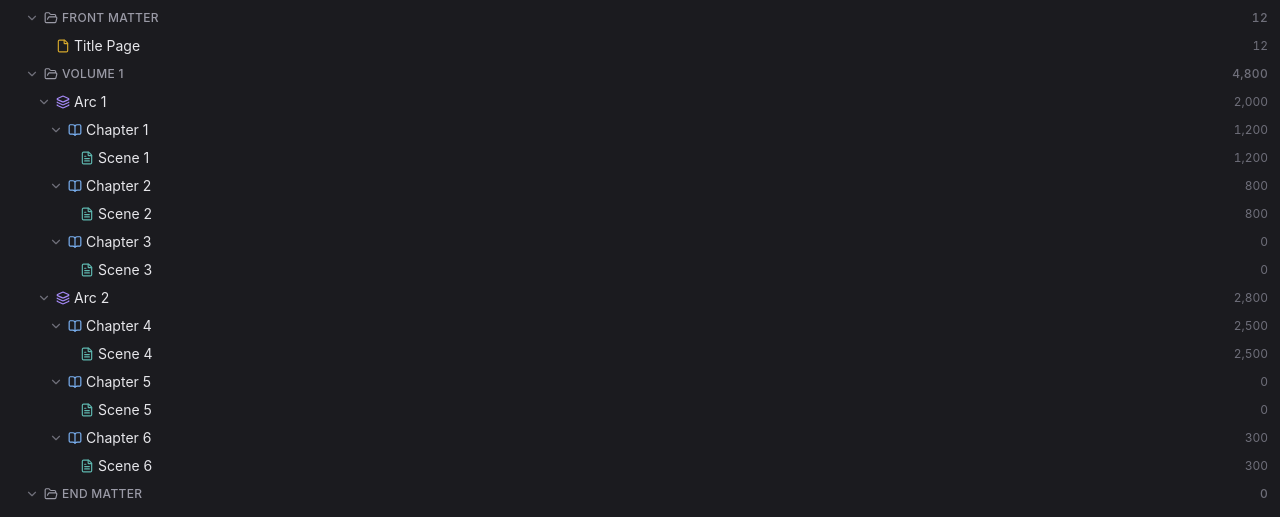
Test: ManuscriptTree › right-click on a chapter opens a menu with the levels and the generic items, no templates
Right-click the element showing "Chapter 2 800" at (119, 186), box [4,172,1276,200]
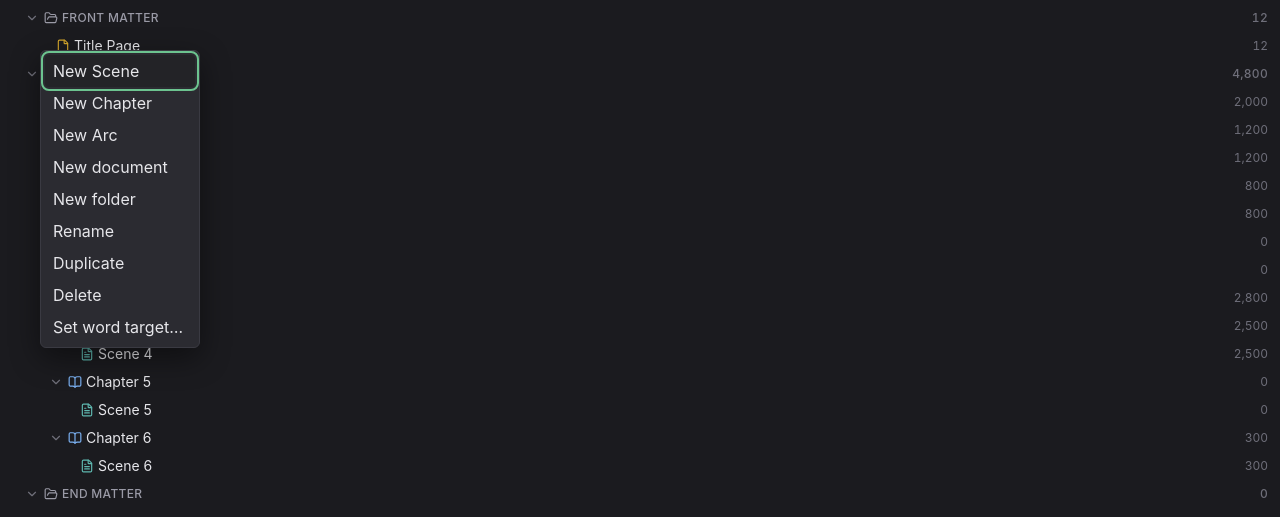
Press Arrowdown
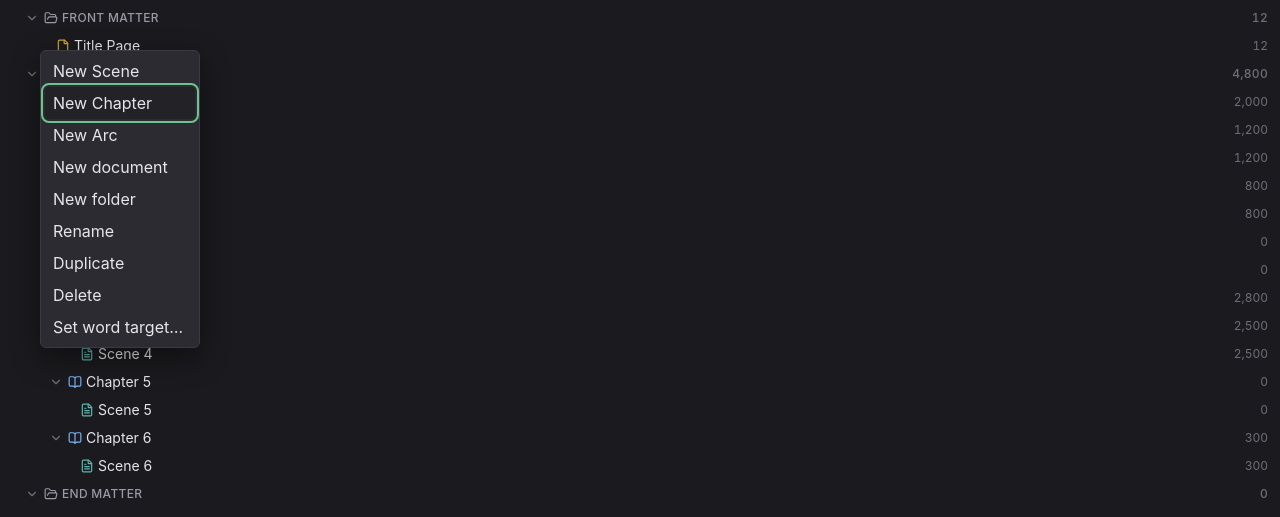
Press Arrowup Arrowup
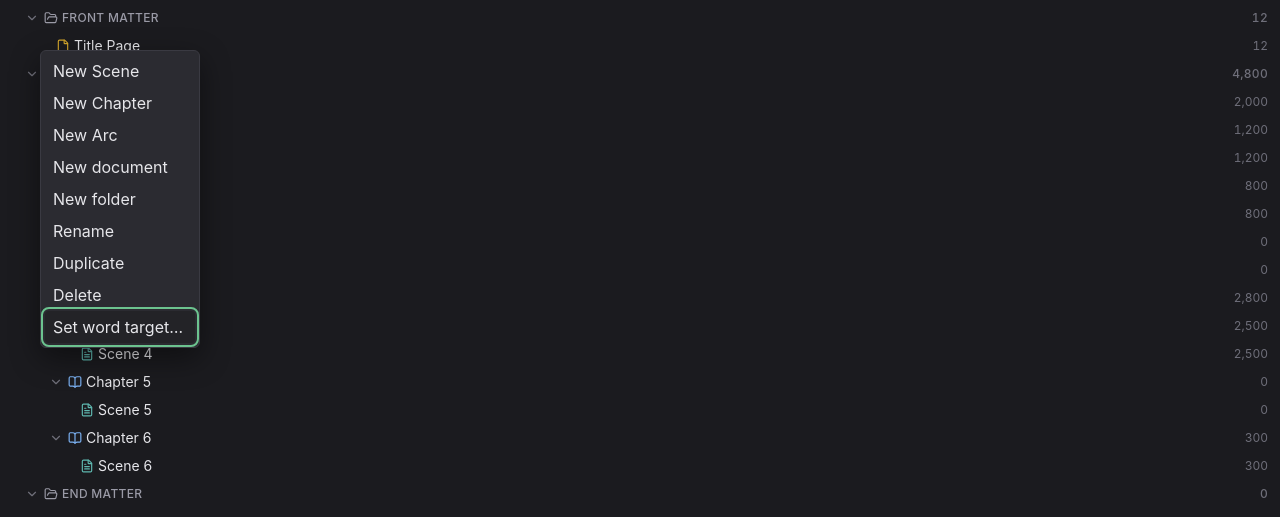
Press Escape
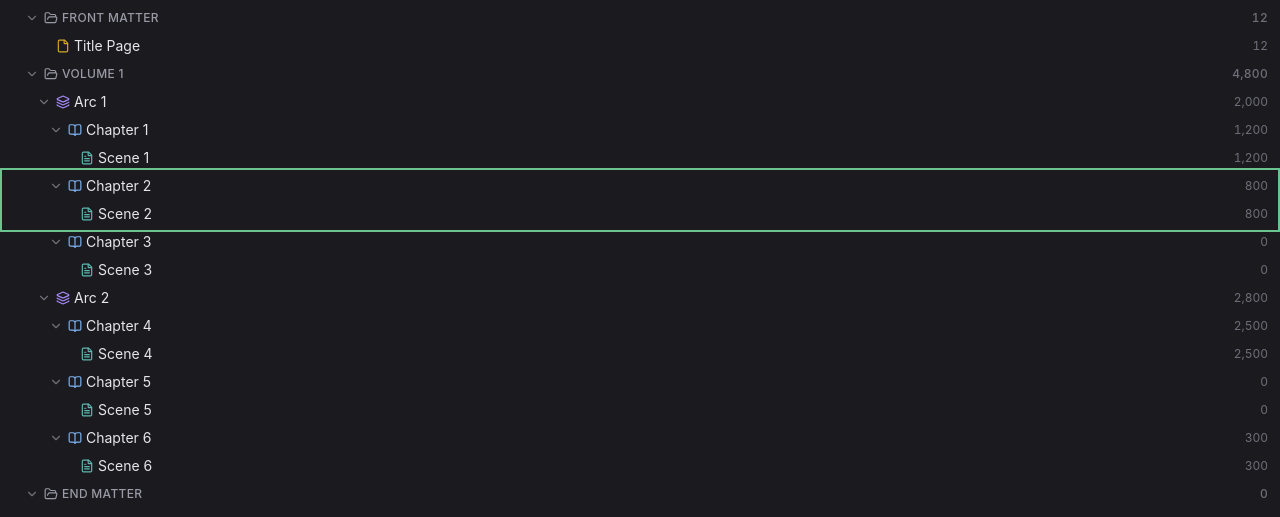
Expected: the menu is gone
